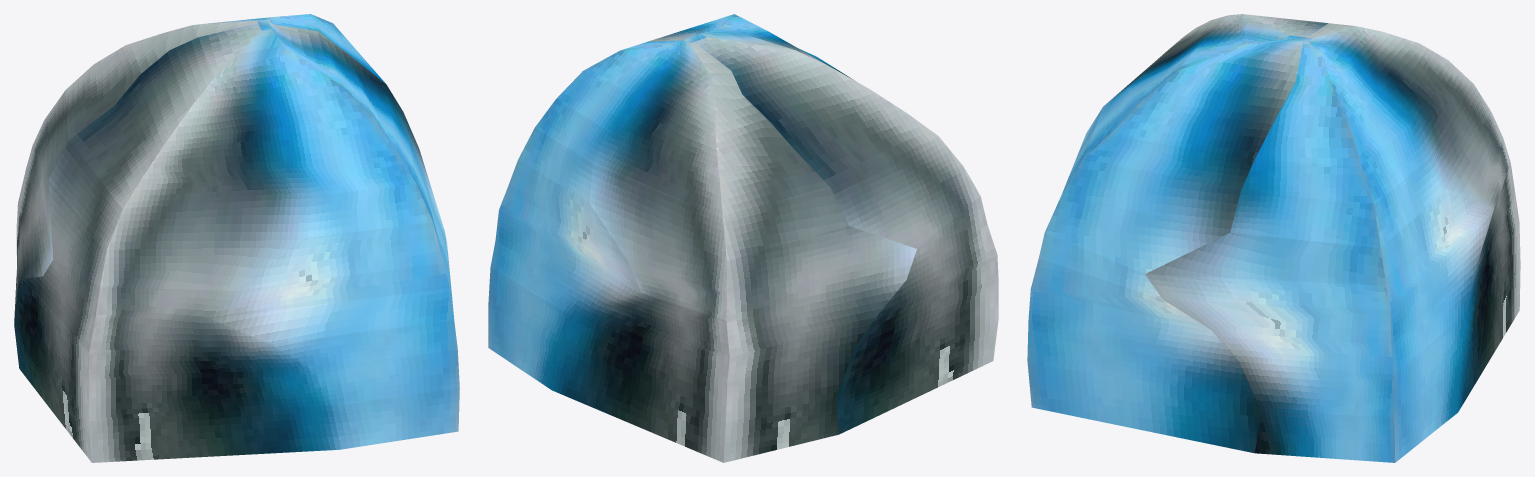
3 views of the same model, side by side, from view 1: azimuth 30°, elevation 25°; view 2: azimuth 150°, elevation 25°; view 3: azimuth 270°, elevation 25° (orthographic). The views are drawn at different scales.
Visible parts, largest first — view 1: SPLICE_1.001; view 2: SPLICE_1.001; view 3: SPLICE_1.001.
Boxes of the visible parts, left/top/right/bottom form: SPLICE_1.001: left=14, top=14, right=459, bottom=462; SPLICE_1.001: left=488, top=14, right=998, bottom=462; SPLICE_1.001: left=1027, top=14, right=1520, bottom=462.
Size of the model in its own units: 1.18 by 0.895 by 1.17.
Materials: 1 (1 with a texture image).
